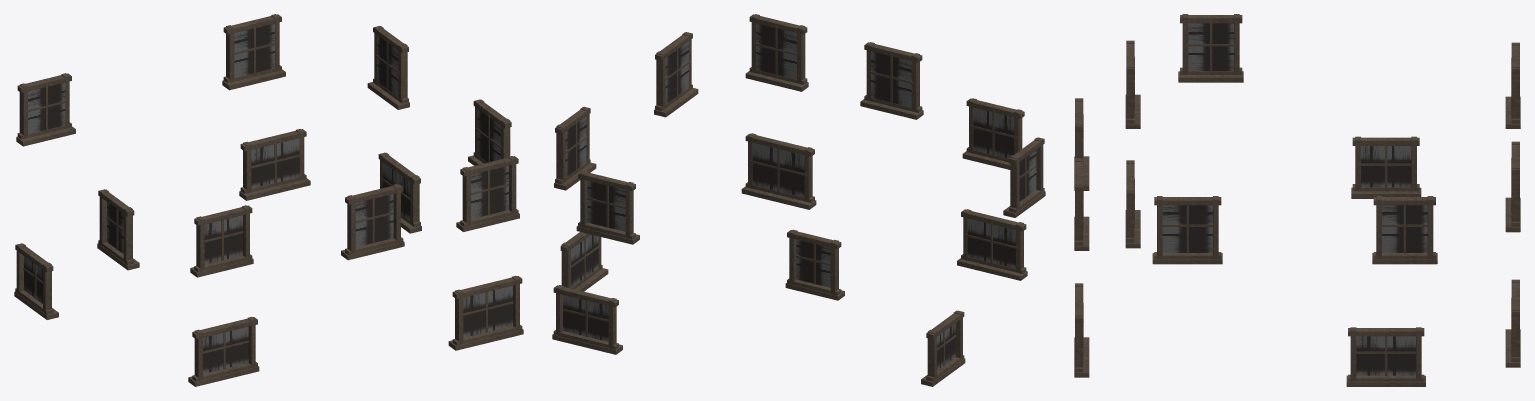
Rendered from BW_Inn01_Windows.fbx.
3 views of the same model, side by side, from view 1: azimuth 30°, elevation 25°; view 2: azimuth 150°, elevation 25°; view 3: azimuth 270°, elevation 25° (orthographic). The views are drawn at different scales.
Parts seen in each view (by area): view 1: BW_Inn01_Windows; view 2: BW_Inn01_Windows; view 3: BW_Inn01_Windows.
Boxes of the visible parts, x1,y1,x2,y2 form: BW_Inn01_Windows: (14,14,523,386); BW_Inn01_Windows: (552,14,1045,386); BW_Inn01_Windows: (1074,14,1520,386).
Size of the model in its own units: 9.86 by 4.53 by 9.56.
